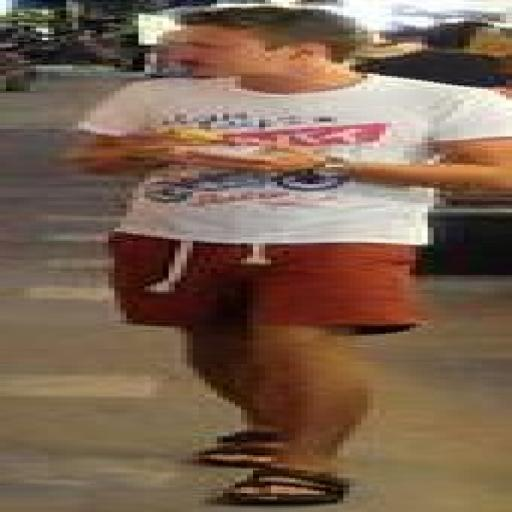person: (73, 6, 511, 504), (356, 21, 511, 87)
